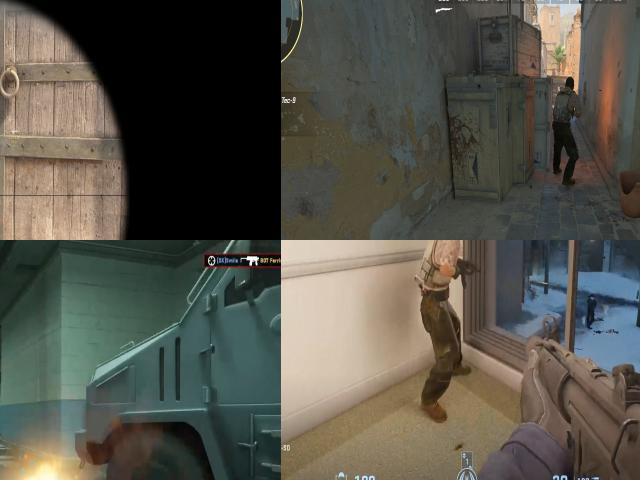CT: (584, 292, 598, 319)
CT-Head: (588, 293, 597, 303)
T: (414, 240, 472, 329), (554, 76, 576, 170)
T-Head: (566, 78, 574, 90)
